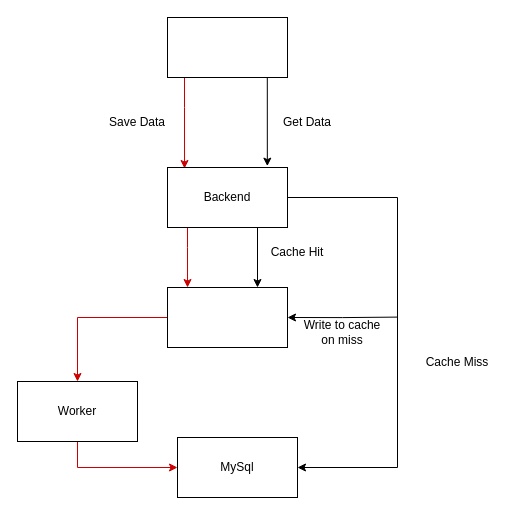
Image size: 525x515. Some labels were removed from this diagram. The centre of each missing label's shape, as x and y in pixels:
React: the point at 227,47
Redis: the point at 227,317
